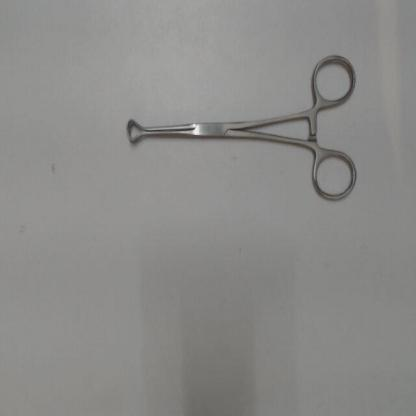Babcock Tissue Forceps: (120, 50, 362, 204)
